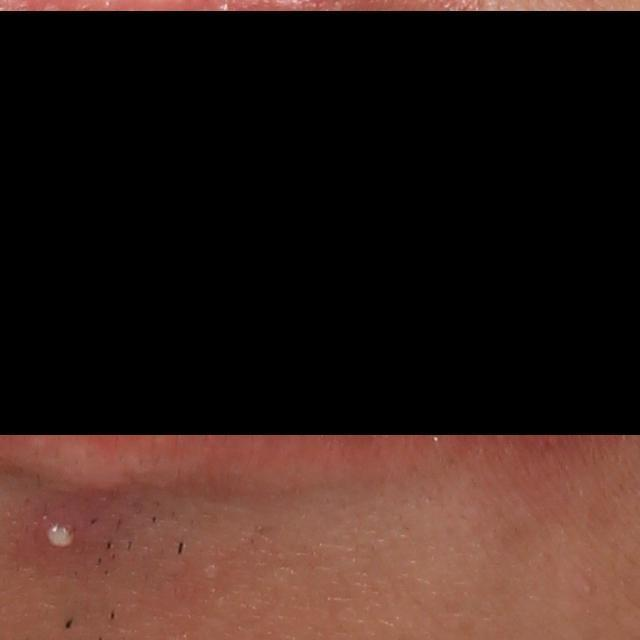pustule: (34, 508, 87, 562)
